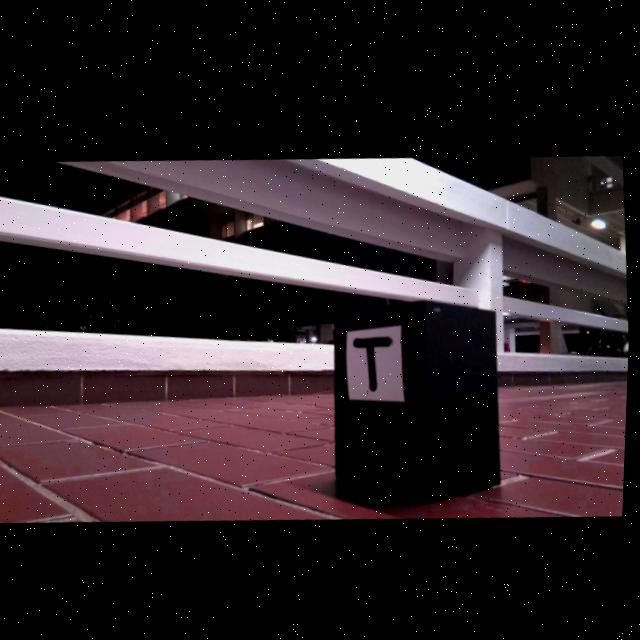T: (355, 332, 394, 387)
